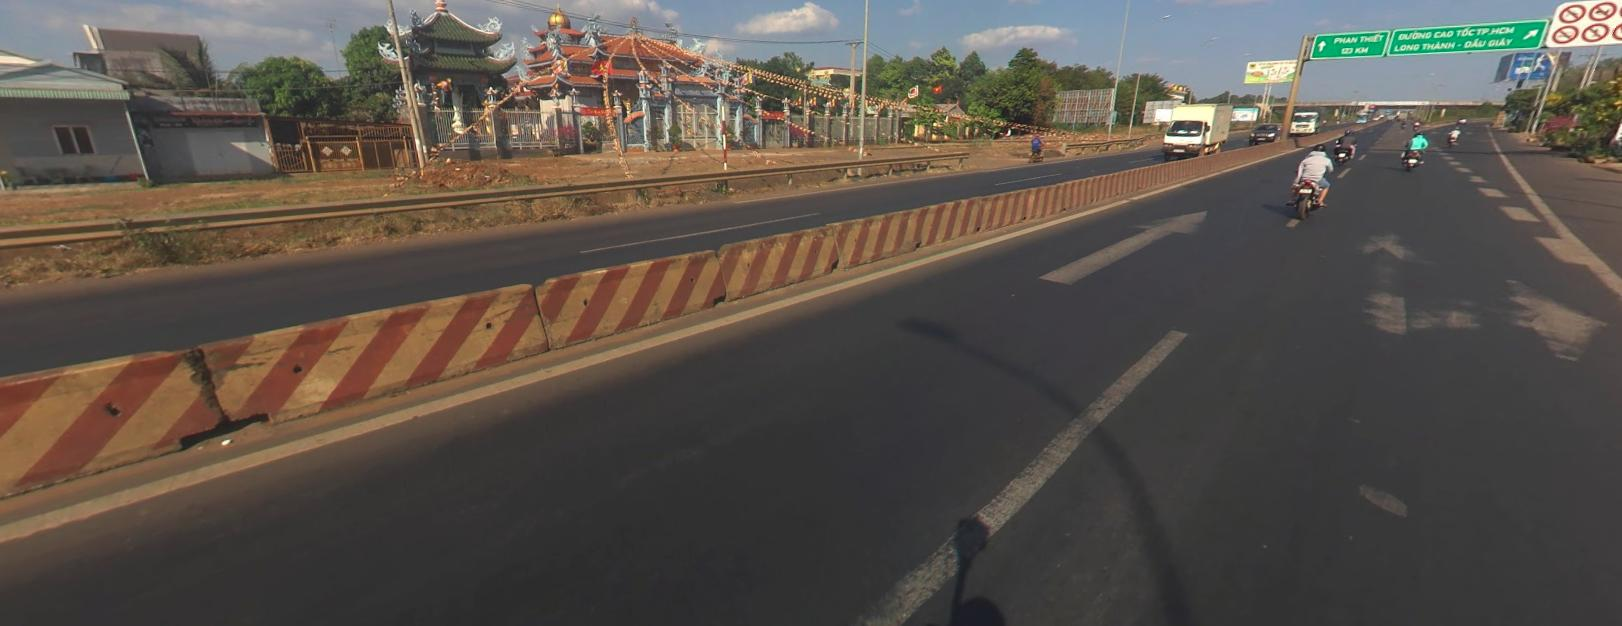Cam con lai: (1582, 23, 1609, 42), (1558, 3, 1585, 22), (1588, 1, 1616, 19), (1553, 25, 1579, 43), (1612, 23, 1621, 40)
